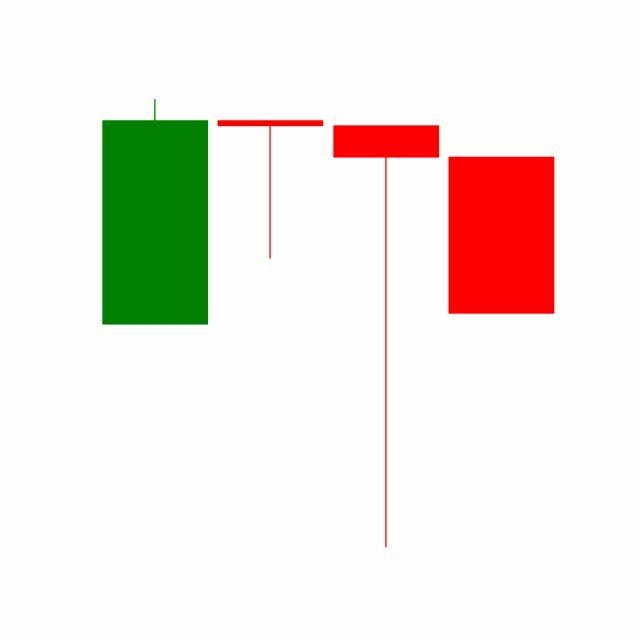Marubozu: (444, 155, 560, 316)
